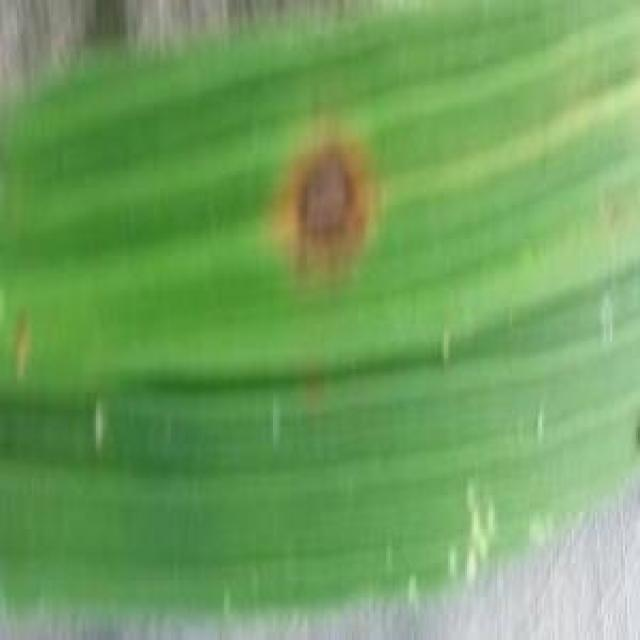brownspots: (262, 138, 384, 262)
